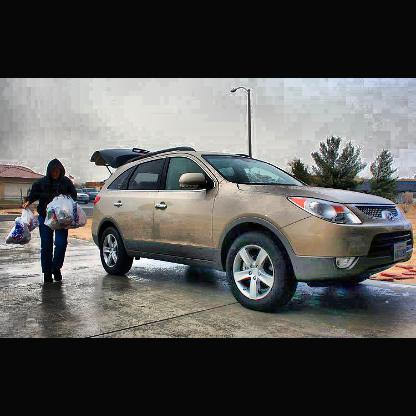Hyundai Veracruz SUV 2012: (93, 148, 416, 313)
